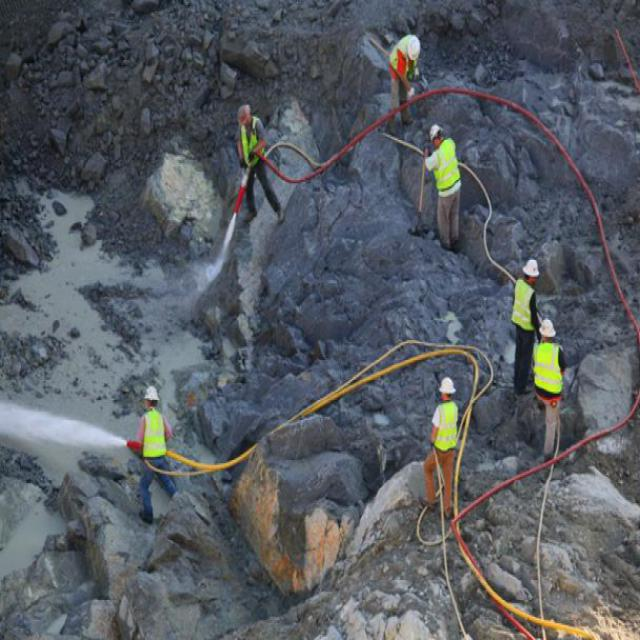helmet: (404, 32, 425, 65), (522, 246, 542, 280), (436, 367, 456, 398), (236, 100, 252, 132), (140, 379, 158, 407), (539, 310, 553, 342), (426, 125, 446, 140)
vest: (526, 336, 567, 396), (429, 400, 463, 458), (432, 137, 461, 197), (134, 410, 164, 453), (510, 273, 530, 333), (388, 28, 410, 81), (236, 123, 262, 163)
